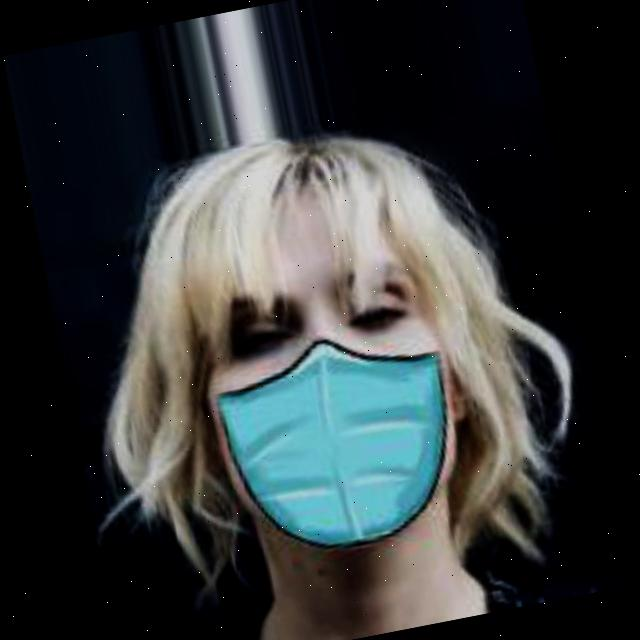suspicion: (124, 100, 532, 590)
